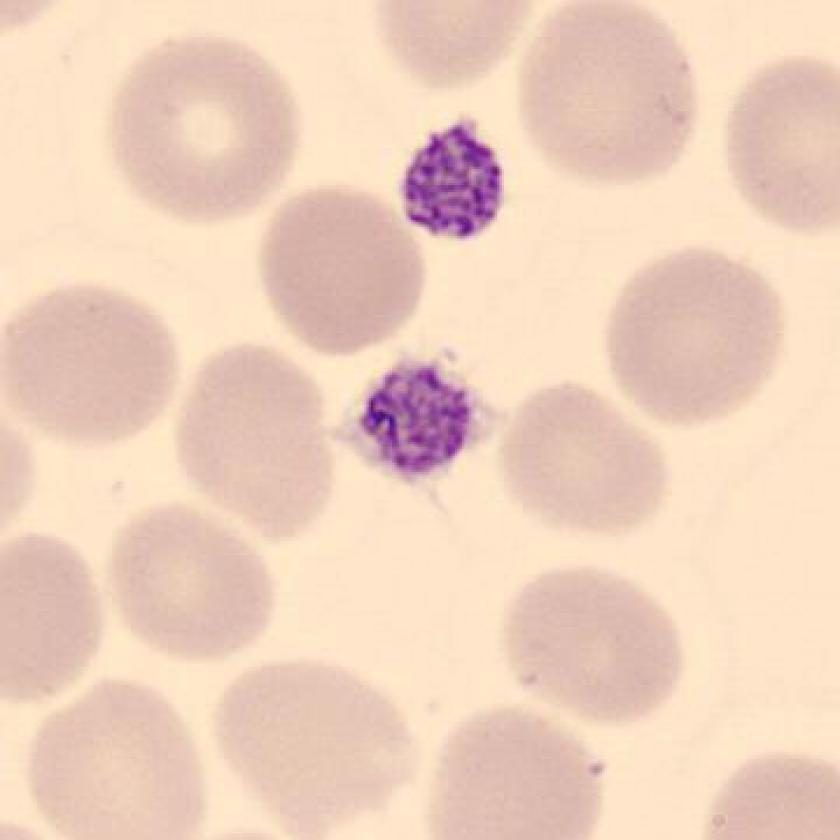platelets: (335, 334, 503, 487), (388, 108, 519, 256)
